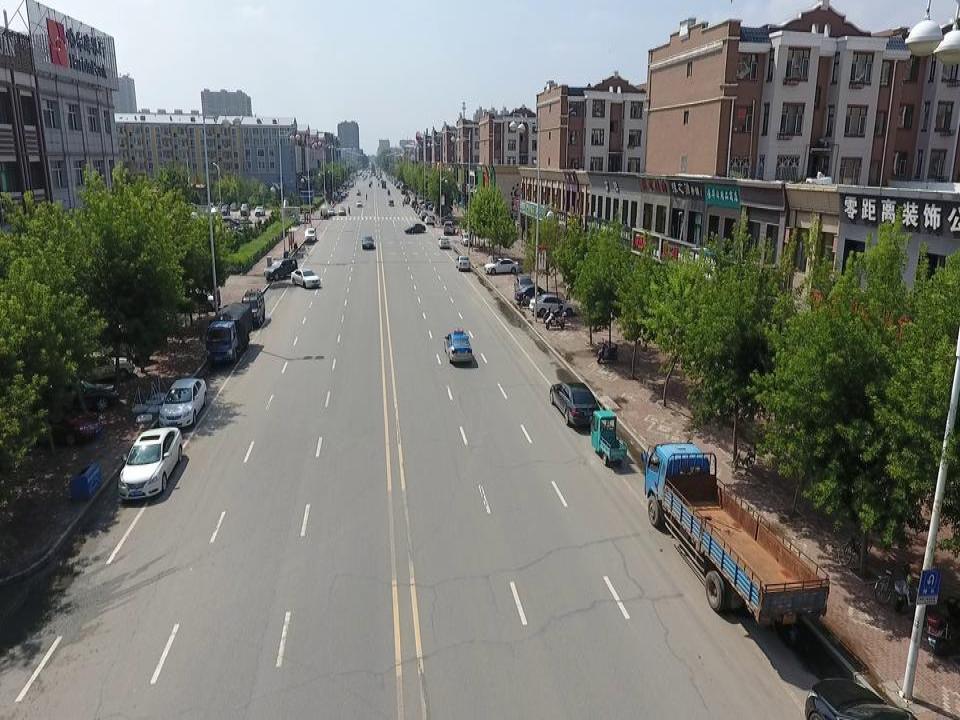car: (802, 669, 910, 720), (118, 427, 182, 500), (4, 404, 102, 444), (24, 380, 118, 411), (549, 381, 601, 428), (159, 377, 206, 428), (58, 353, 135, 379), (530, 293, 576, 316), (444, 329, 472, 363), (514, 286, 557, 306), (264, 259, 297, 280), (291, 268, 321, 287), (483, 259, 519, 273), (514, 276, 536, 296), (455, 256, 471, 271), (404, 223, 425, 233), (439, 215, 460, 224), (304, 228, 317, 241), (361, 236, 374, 249), (438, 236, 450, 248), (444, 221, 455, 234), (460, 233, 471, 246), (254, 207, 265, 216), (424, 215, 434, 224), (338, 205, 345, 215), (327, 208, 334, 216), (388, 198, 394, 206), (356, 200, 362, 207), (355, 190, 360, 194)
truck: (641, 443, 830, 620), (205, 302, 252, 366)
van: (242, 289, 265, 326)
